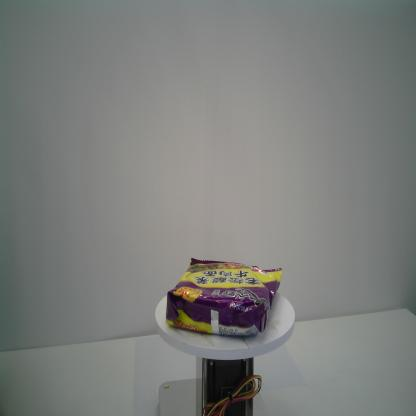Instant Noodles: (164, 256, 281, 339)
